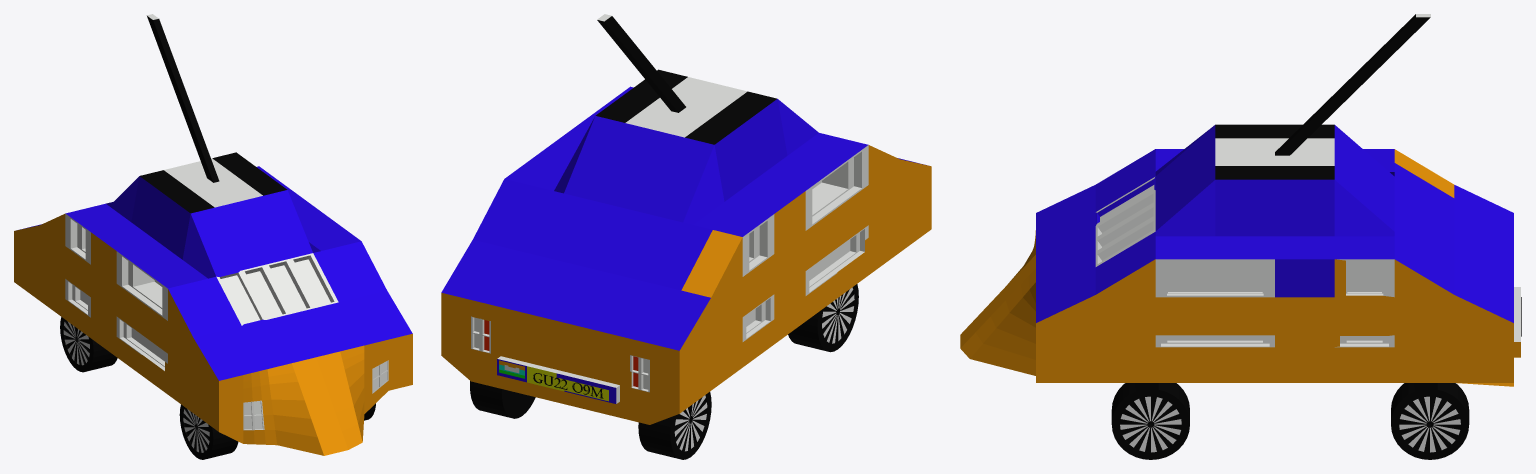
The model's file is car_1.fbx.
3 views of the same model, side by side, from view 1: azimuth 30°, elevation 25°; view 2: azimuth 150°, elevation 25°; view 3: azimuth 270°, elevation 25° (orthographic). The views are drawn at different scales.
Visible parts, largest first — view 1: Body; view 2: Body; view 3: Body.
Boxes of the visible parts, <box> form: Body: <box>14,14,412,459</box>; Body: <box>441,14,931,459</box>; Body: <box>960,14,1520,459</box>.
Bounding box in the file's own units: 2 × 3.33 × 4.3.
